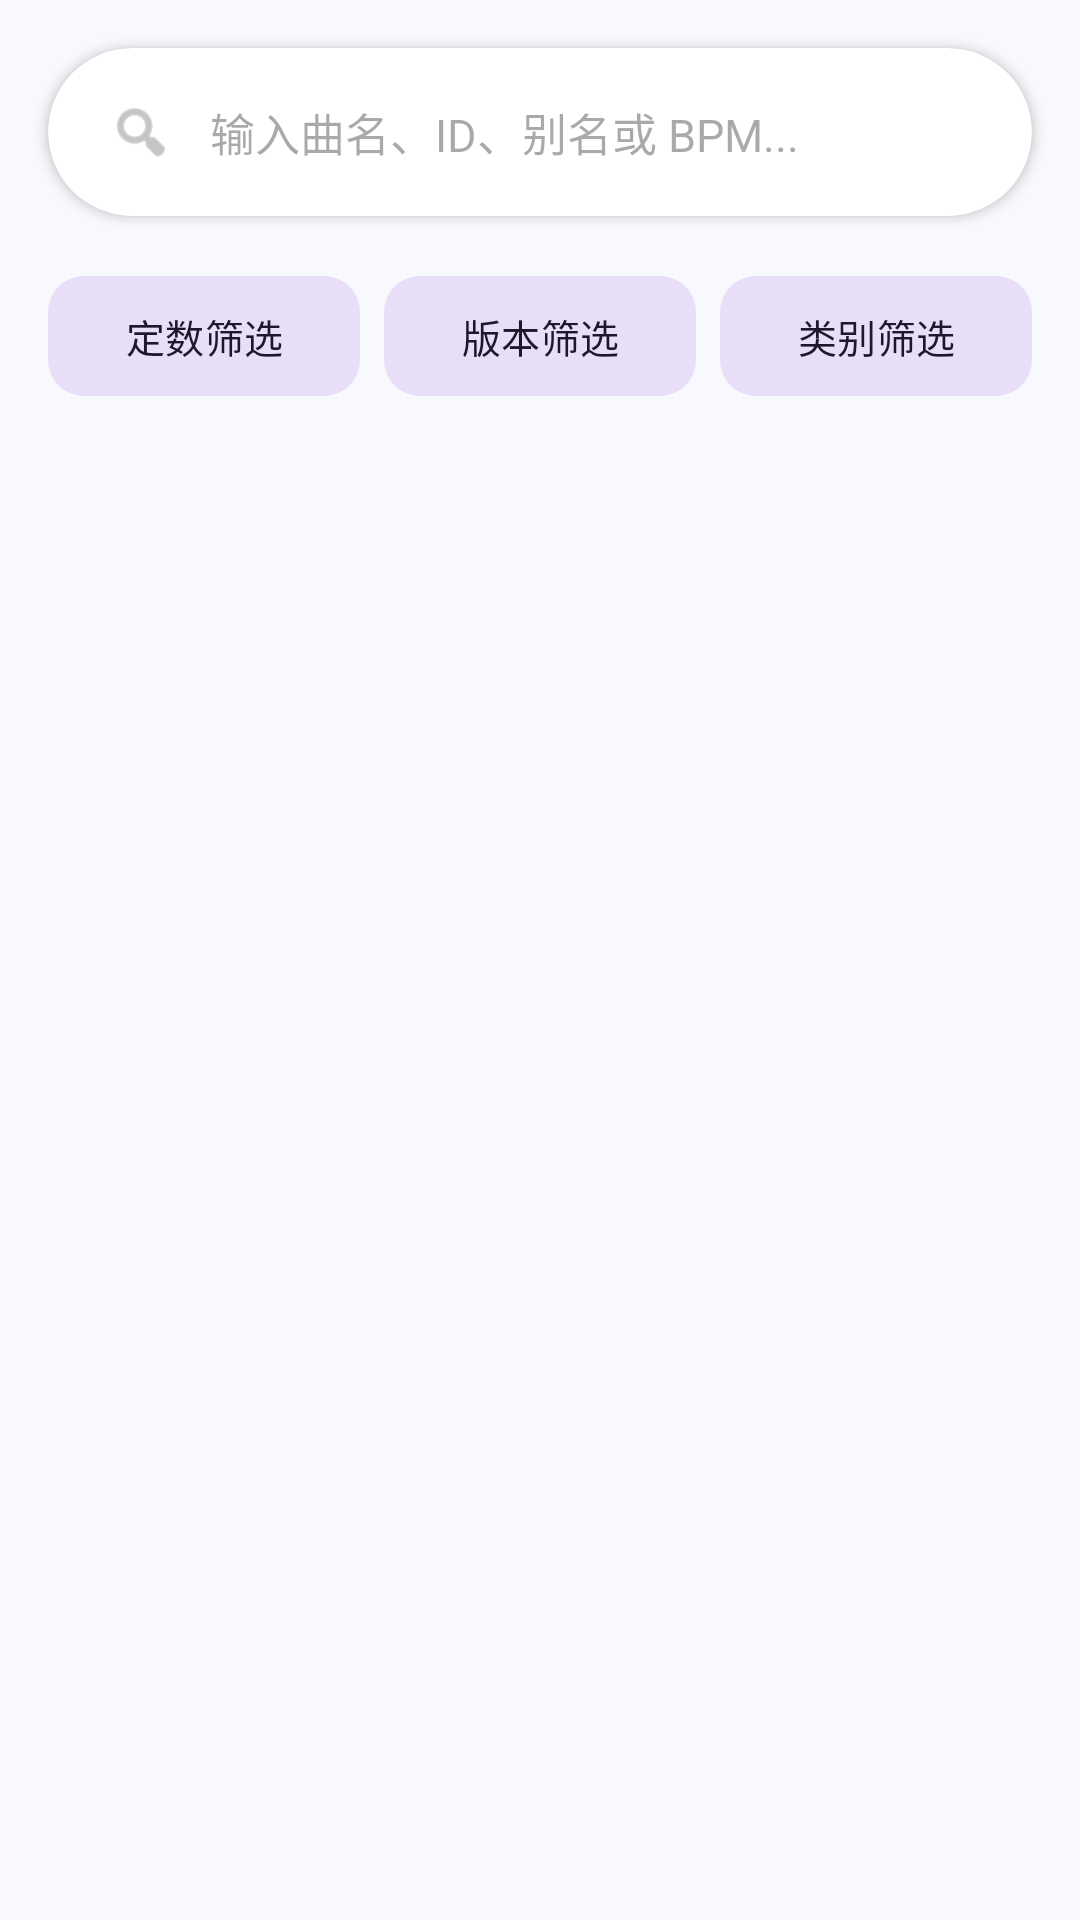

Named icons in this screenshot (1080px x 1920px) and their bounding boxes, [x1=x1, y1=y1, x2=x2, y2=y2]:
search: [x1=117, y1=108, x2=165, y2=156]
